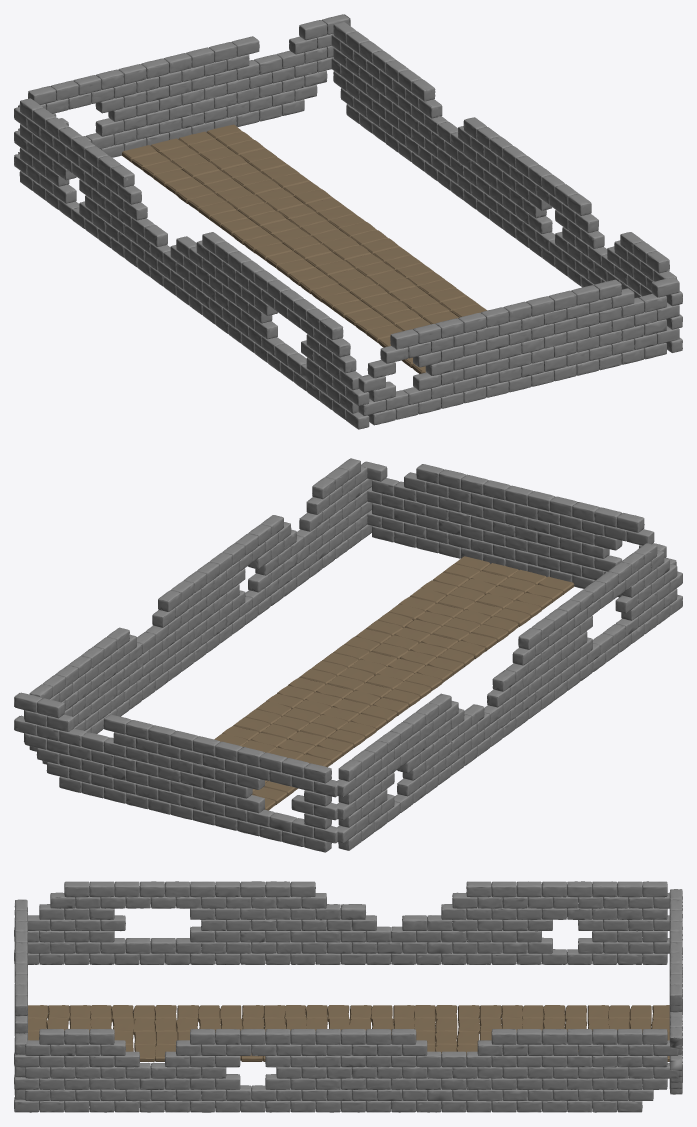
File: LongShieldRobotRoom.fbx
The picture shows the model from 3 angles, top to bottom: view 1: azimuth 30°, elevation 25°; view 2: azimuth 150°, elevation 25°; view 3: azimuth 270°, elevation 25°; orthographic projection. The views are drawn at different scales.
Visible parts, largest first — view 1: LongShieldRobotRoom, Plane.001; view 2: LongShieldRobotRoom, Plane.001; view 3: LongShieldRobotRoom, Plane.001.
Boxes of the visible parts, bbox=[...] form: LongShieldRobotRoom: bbox=[14, 14, 682, 429]; Plane.001: bbox=[121, 124, 486, 373]; LongShieldRobotRoom: bbox=[14, 458, 682, 852]; Plane.001: bbox=[214, 556, 574, 810]; LongShieldRobotRoom: bbox=[14, 881, 682, 1112]; Plane.001: bbox=[28, 1005, 669, 1062].
Size of the model in its own units: 29.41 by 7.01 by 53.11.
